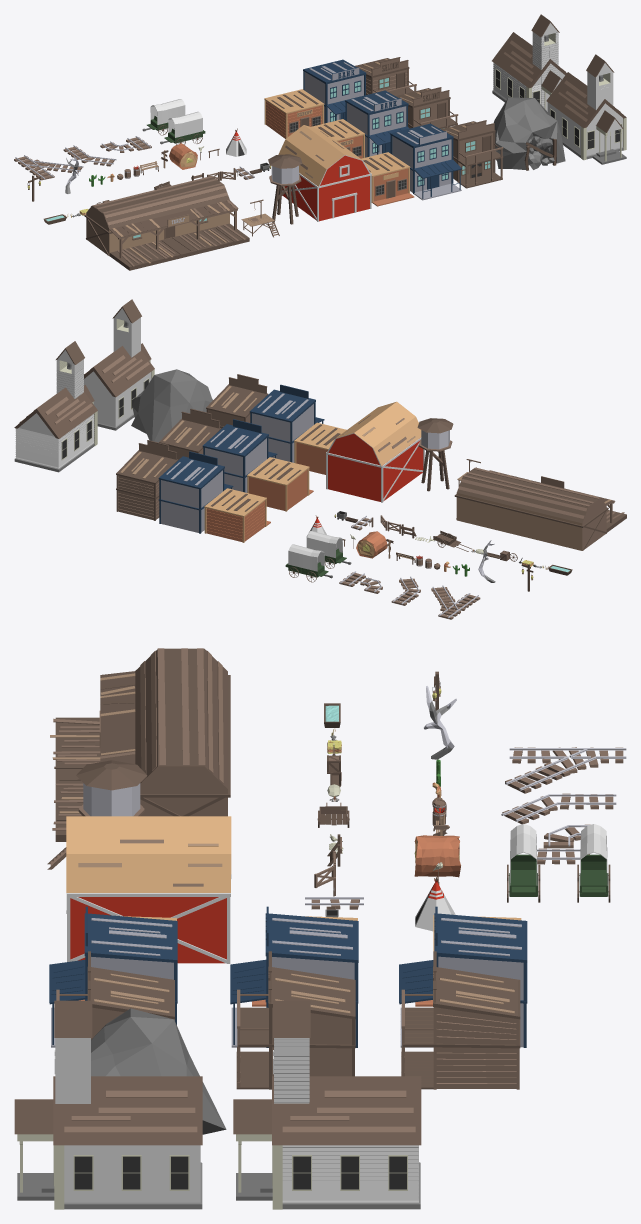
The model's file is western_scene.fbx.
3 views of the same model, one above another, from view 1: azimuth 30°, elevation 25°; view 2: azimuth 150°, elevation 25°; view 3: azimuth 270°, elevation 25° (orthographic). The views are drawn at different scales.
Visible parts, largest first — view 1: Train_Station_pal, Barn_pal, Church_LOD1_pal, Church_LOD0_pal, Mine_pal, Bank_LOD2_pal, Saloon_LOD2_pal, Bank_LOD1_pal, Bank_LOD0_pal, Sheriff_LOD0_pal, Sheriff_LOD2_pal, Saloon_LOD1_pal (+9 smaller); view 2: Train_Station_pal, Barn_pal, Church_LOD0_pal, Church_LOD1_pal, Bank_LOD0_pal, Mine_pal, Bank_LOD2_pal, Saloon_LOD0_pal, Bank_LOD1_pal, Sheriff_LOD0_pal, Sheriff_LOD1_pal, Saloon_LOD2_pal (+8 smaller); view 3: Church_LOD1_pal, Church_LOD0_pal, Train_Station_pal, Barn_pal, Saloon_LOD0_pal, Saloon_LOD1_pal, Bank_LOD1_pal, Bank_LOD0_pal, Bank_LOD2_pal, Mine_pal, Saloon_LOD2_pal, Water_tower_pal (+7 smaller).
Boxes of the visible parts, left/top/right/bottom form: Train_Station_pal: left=84, top=176, right=249, bottom=270; Barn_pal: left=278, top=125, right=371, bottom=221; Church_LOD1_pal: left=546, top=54, right=626, bottom=164; Church_LOD0_pal: left=492, top=14, right=566, bottom=111; Mine_pal: left=493, top=97, right=565, bottom=170; Bank_LOD2_pal: left=390, top=123, right=461, bottom=200; Saloon_LOD2_pal: left=441, top=120, right=503, bottom=188; Bank_LOD1_pal: left=345, top=90, right=409, bottom=157; Bank_LOD0_pal: left=303, top=59, right=366, bottom=123; Sheriff_LOD0_pal: left=264, top=89, right=324, bottom=138; Sheriff_LOD2_pal: left=361, top=152, right=414, bottom=206; Saloon_LOD1_pal: left=395, top=87, right=458, bottom=129; Train_Station_pal: left=454, top=467, right=626, bottom=550; Barn_pal: left=326, top=401, right=424, bottom=502; Church_LOD0_pal: left=14, top=341, right=97, bottom=472; Church_LOD1_pal: left=84, top=299, right=154, bottom=430; Bank_LOD0_pal: left=158, top=451, right=233, bottom=533; Mine_pal: left=131, top=369, right=212, bottom=442; Bank_LOD2_pal: left=249, top=384, right=324, bottom=462; Saloon_LOD0_pal: left=116, top=440, right=178, bottom=520; Bank_LOD1_pal: left=202, top=419, right=277, bottom=492; Sheriff_LOD0_pal: left=204, top=488, right=270, bottom=542; Sheriff_LOD1_pal: left=247, top=457, right=313, bottom=511; Saloon_LOD2_pal: left=206, top=374, right=268, bottom=428; Church_LOD1_pal: left=14, top=1000, right=202, bottom=1209; Church_LOD0_pal: left=233, top=1000, right=421, bottom=1209; Train_Station_pal: left=50, top=648, right=230, bottom=841; Barn_pal: left=66, top=816, right=231, bottom=963; Saloon_LOD0_pal: left=401, top=951, right=520, bottom=1089; Saloon_LOD1_pal: left=236, top=951, right=355, bottom=1089; Bank_LOD1_pal: left=230, top=906, right=358, bottom=1047; Bank_LOD0_pal: left=399, top=906, right=527, bottom=1047; Bank_LOD2_pal: left=49, top=906, right=177, bottom=1047; Mine_pal: left=91, top=1008, right=226, bottom=1134; Saloon_LOD2_pal: left=56, top=951, right=174, bottom=1039; Water_tower_pal: left=76, top=760, right=147, bottom=816.
Size of the model in its own units: 6067 by 1090 by 3139.
